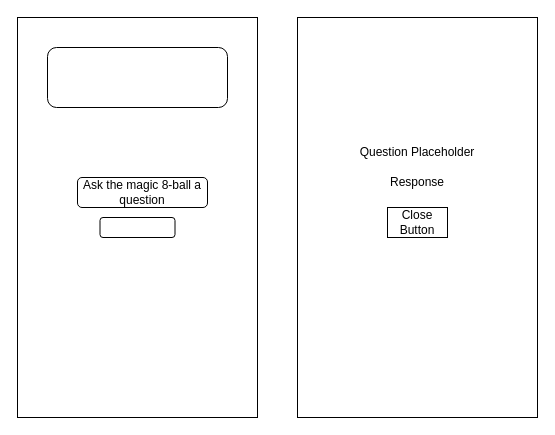
Image size: 555x435. Some labels were removed from this diagram. Here are the shapes that lost their labels. From the top down, the centre of each, then its label:
the point at 137,77: Magic 8-Ball
the point at 137,227: Ask Question
